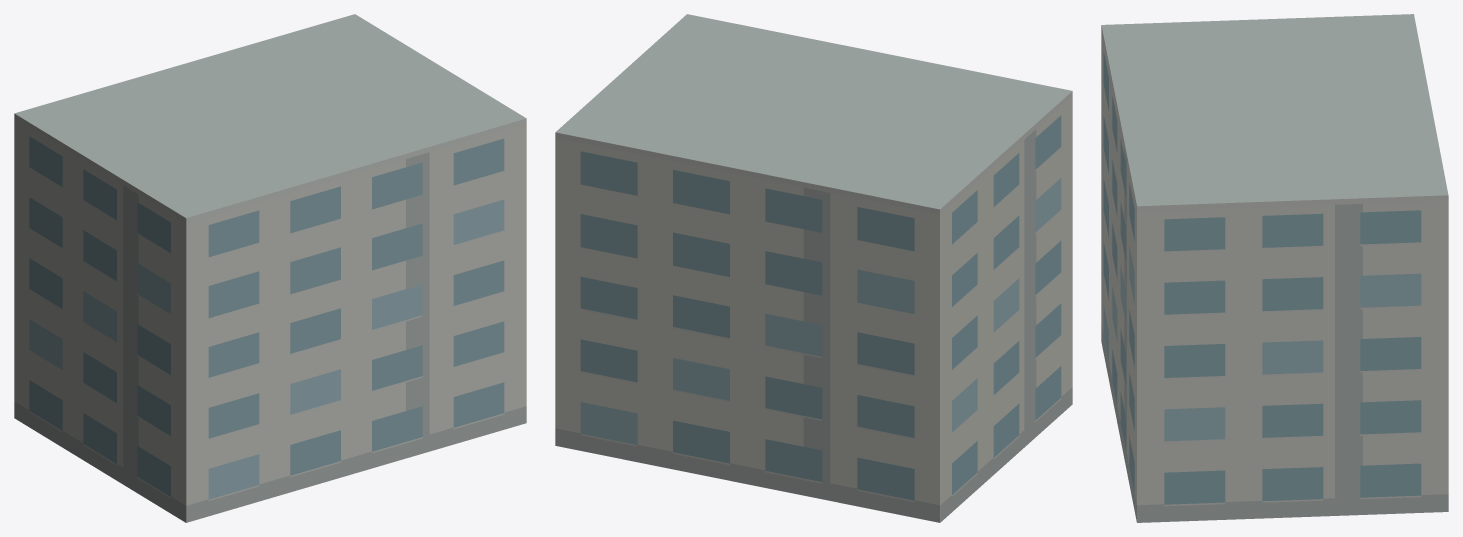
The model's file is survey-upis-32985974.glb.
3 views of the same model, side by side, from view 1: azimuth 30°, elevation 25°; view 2: azimuth 150°, elevation 25°; view 3: azimuth 270°, elevation 25° (orthographic). The views are drawn at different scales.
Visible parts, largest first — view 1: survey-upis-32985974.tmp; view 2: survey-upis-32985974.tmp; view 3: survey-upis-32985974.tmp.
Boxes of the visible parts, x1,y1,x2,y2 form: survey-upis-32985974.tmp: [14, 14, 526, 522]; survey-upis-32985974.tmp: [555, 14, 1072, 522]; survey-upis-32985974.tmp: [1101, 14, 1448, 522].
Size of the model in its own units: 18.24 by 14 by 13.92.
